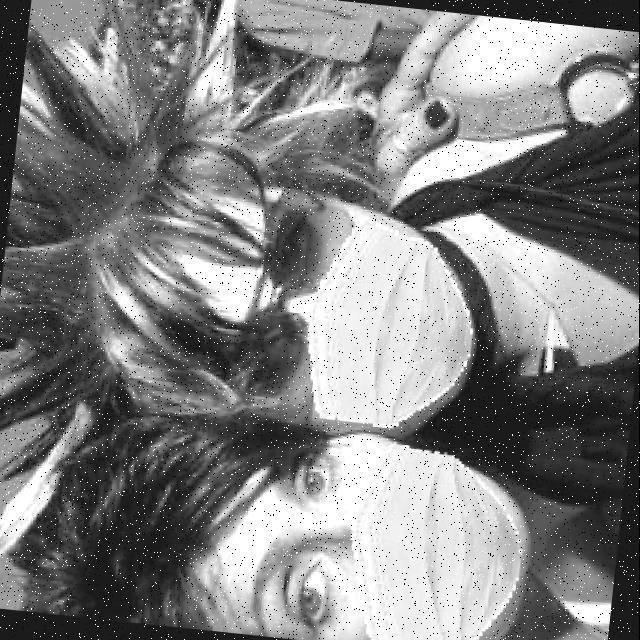mask: (339, 476, 505, 640), (326, 256, 456, 439)
no_apron: (324, 8, 476, 204)
no_gloves: (0, 118, 226, 413), (1, 433, 202, 640)
